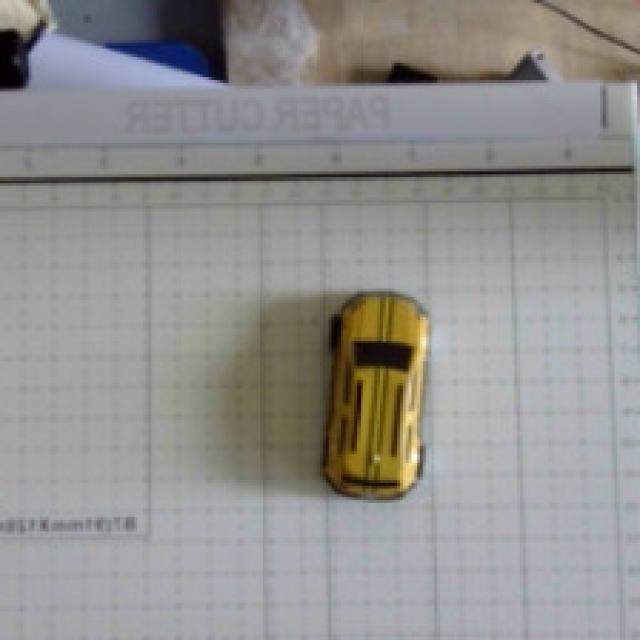Yellow Car: (262, 271, 475, 542)
